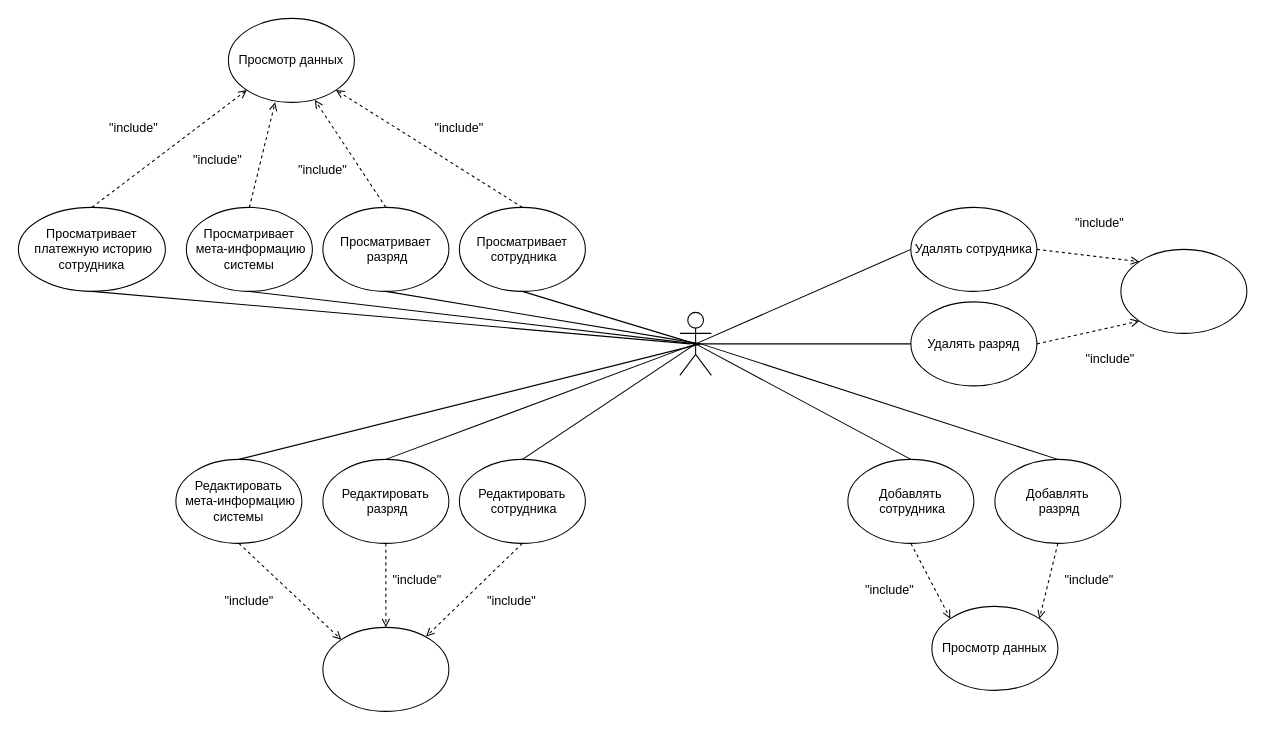
Some shapes in this 1265 by 730 pixel diagram are drawn without their labels. Here are the shapes that lost their labels. From the top down, the centre of each, then its label:
At point (1183, 290): "Удаление данных".
At point (695, 343): "Администратор".
At point (385, 668): "Редактирование данных".
